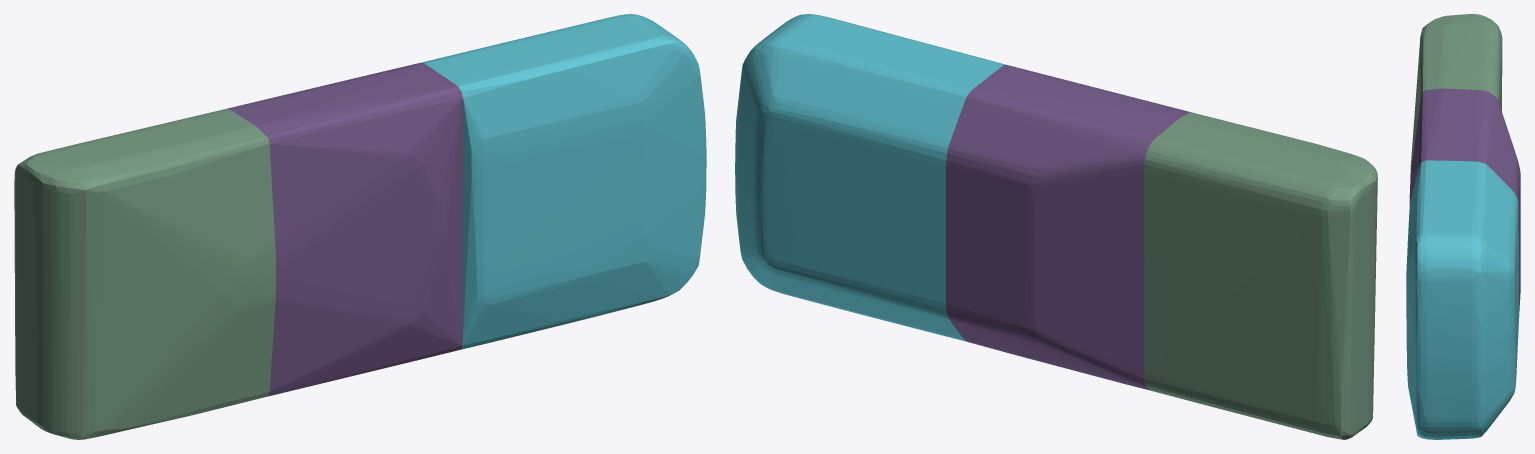
Rendered from coacd_collision.obj.
The picture shows the model from 3 angles, left to right: view 1: azimuth 30°, elevation 25°; view 2: azimuth 150°, elevation 25°; view 3: azimuth 270°, elevation 25°; orthographic projection. The views are drawn at different scales.
Visible parts, largest first — view 1: geometry_0, geometry_2, geometry_1; view 2: geometry_0, geometry_2, geometry_1; view 3: geometry_2, geometry_1, geometry_0.
Part boxes in pixels (box(x1,y1,x2,y2)): geometry_0: box(14, 108, 275, 439); geometry_2: box(420, 14, 706, 349); geometry_1: box(227, 63, 462, 396); geometry_0: box(1144, 112, 1377, 439); geometry_2: box(735, 14, 1006, 341); geometry_1: box(946, 65, 1191, 389); geometry_2: box(1406, 160, 1519, 439); geometry_1: box(1409, 88, 1520, 310); geometry_0: box(1410, 14, 1502, 178).
Bounding box in the file's own units: 126 × 49.92 × 25.03.
